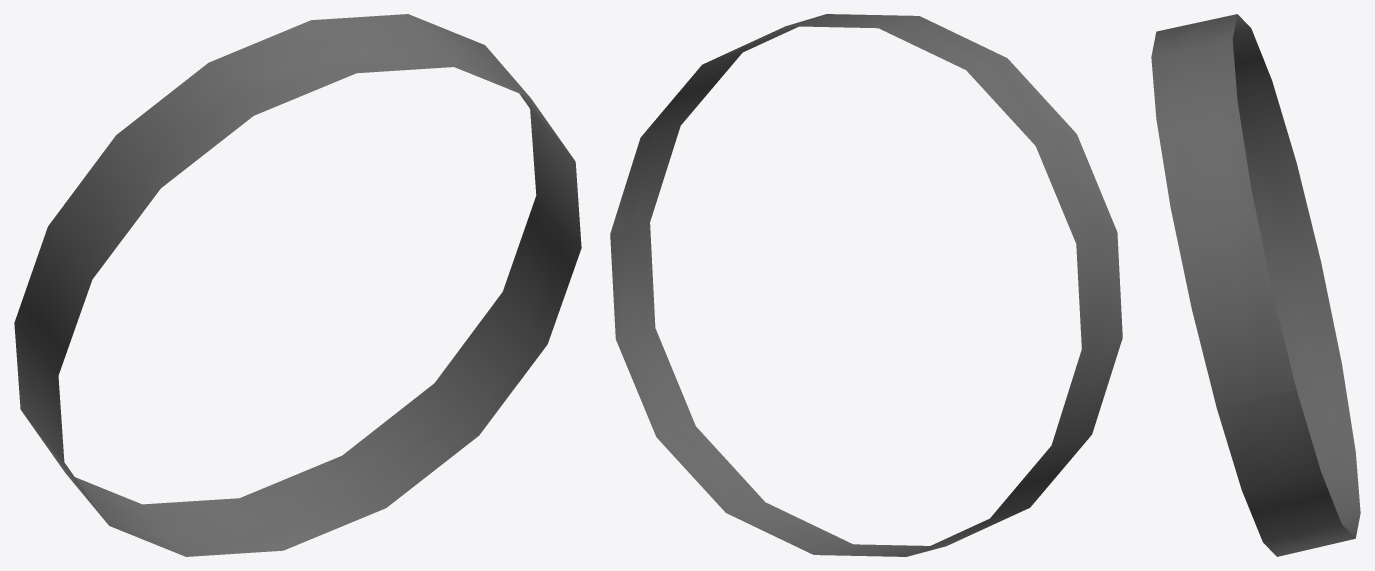
File: mastarmcurve_8x2_c5.obj
3 views of the same model, side by side, from view 1: azimuth 30°, elevation 25°; view 2: azimuth 150°, elevation 25°; view 3: azimuth 270°, elevation 25° (orthographic). The views are drawn at different scales.
Parts seen in each view (by area): view 1: mastarm_8x2_c5; view 2: mastarm_8x2_c5; view 3: mastarm_8x2_c5.
Part boxes in pixels (x1,y1,x2,y2): mastarm_8x2_c5: (14, 14, 581, 556); mastarm_8x2_c5: (610, 14, 1122, 556); mastarm_8x2_c5: (1151, 14, 1360, 556).
Bounding box in the file's own units: 0.5625 × 0.566 × 0.2183.
